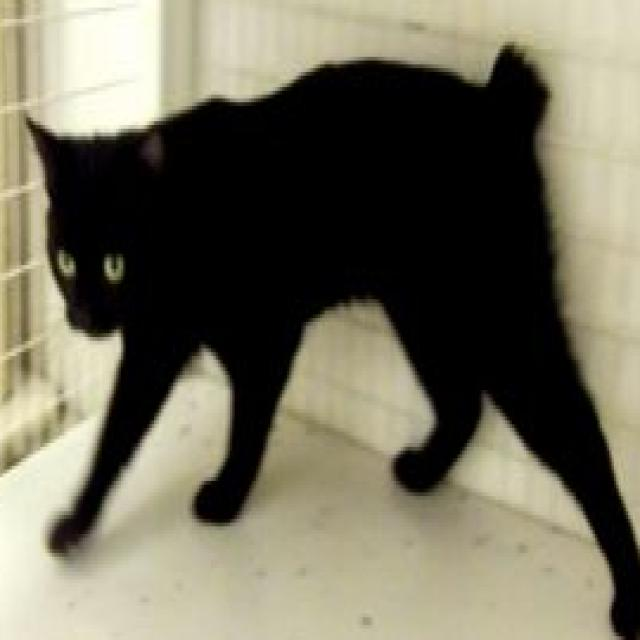American Bobtail: (21, 38, 640, 640)
